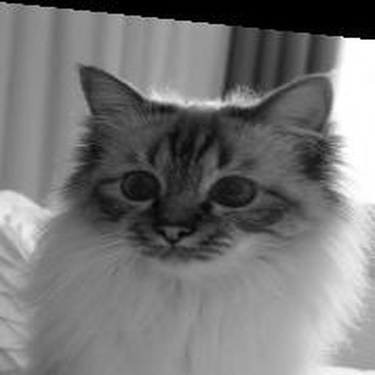cat: (30, 59, 368, 367)
